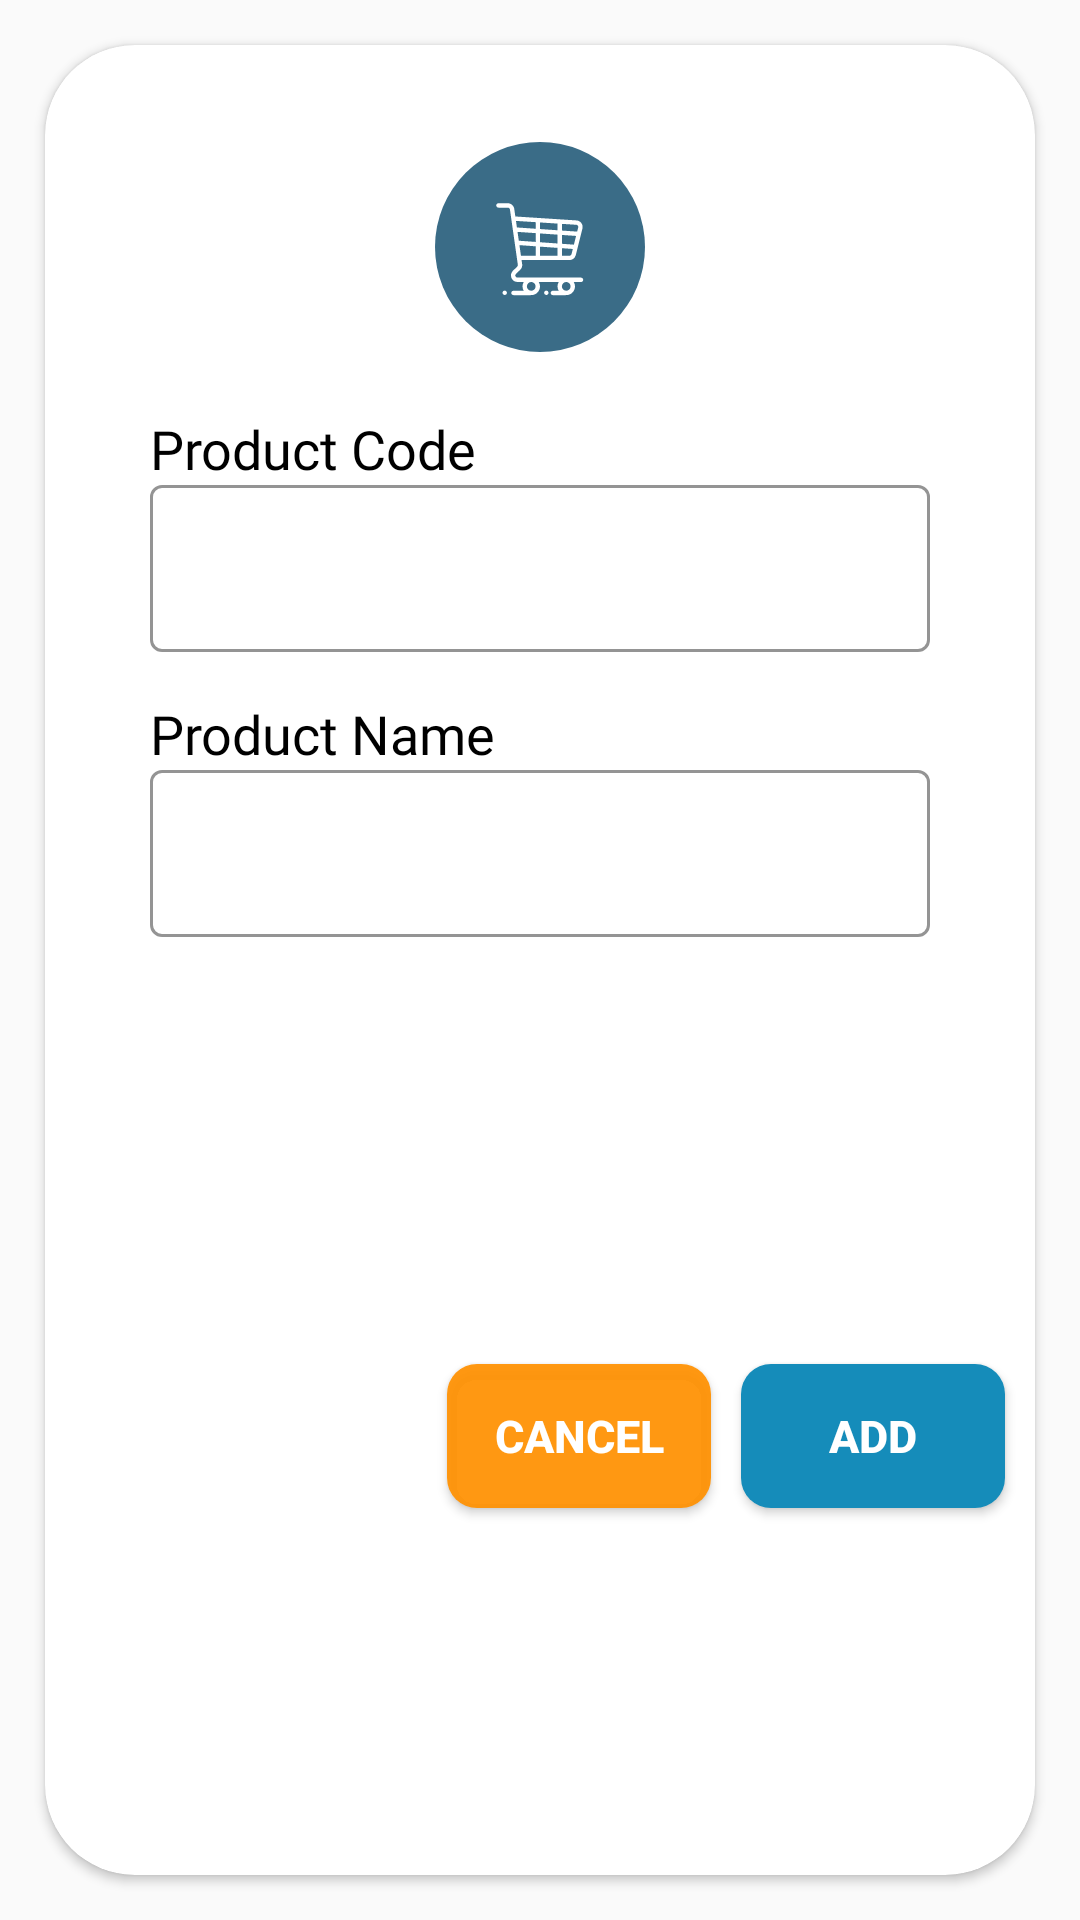

Screen size 1080w x 1920h. Icon name, then its box in pixels as {"x1": x1, "y1": y1, "x2": x2, "y2": y2}:
supermarket: {"x1": 435, "y1": 142, "x2": 645, "y2": 352}
